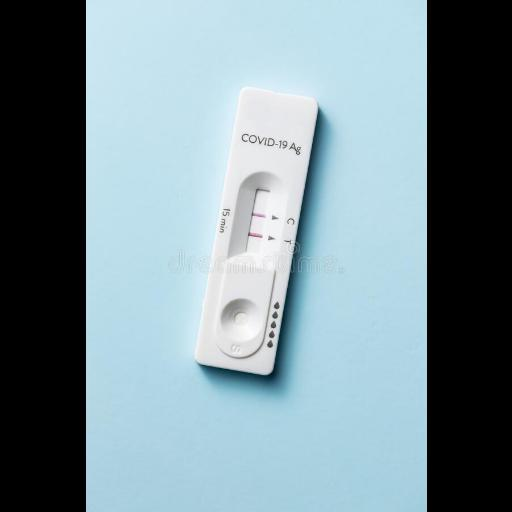Pos: (192, 85, 320, 380)
